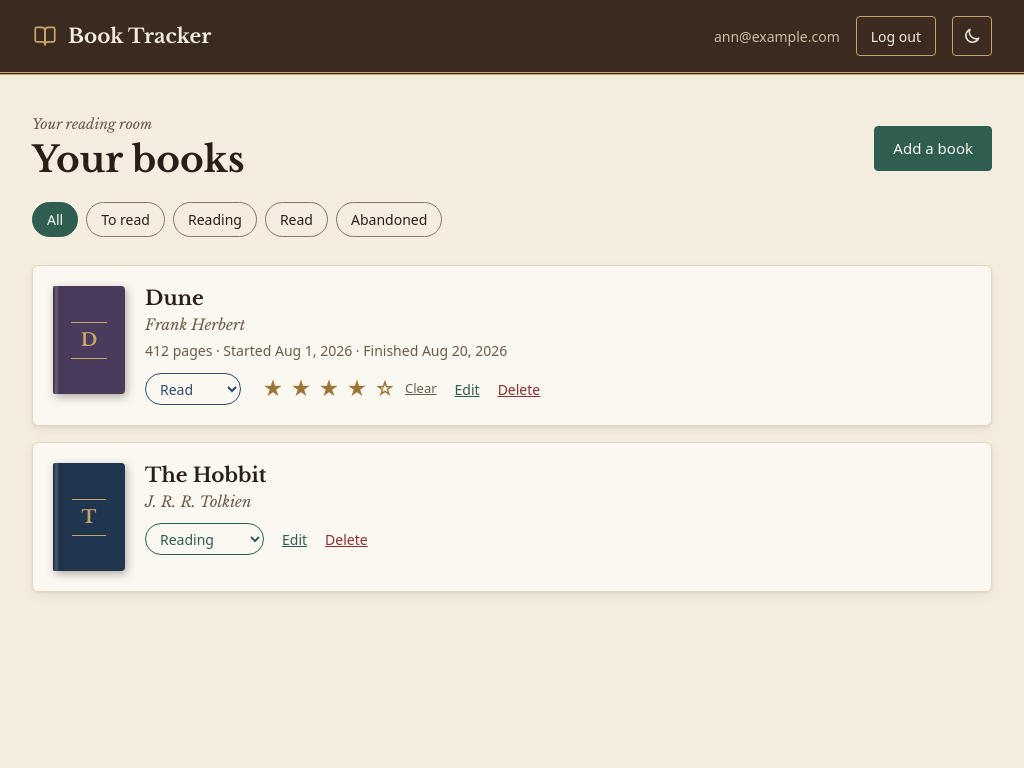
Test case: books page › filters by status through the URL
Expected: the heading "Dune" is shown, [145, 286, 204, 310]
What coordinates should you click on to do the following:
click the link "Reading"
I would click on:
 (215, 220)
Its box is [173, 202, 257, 237].
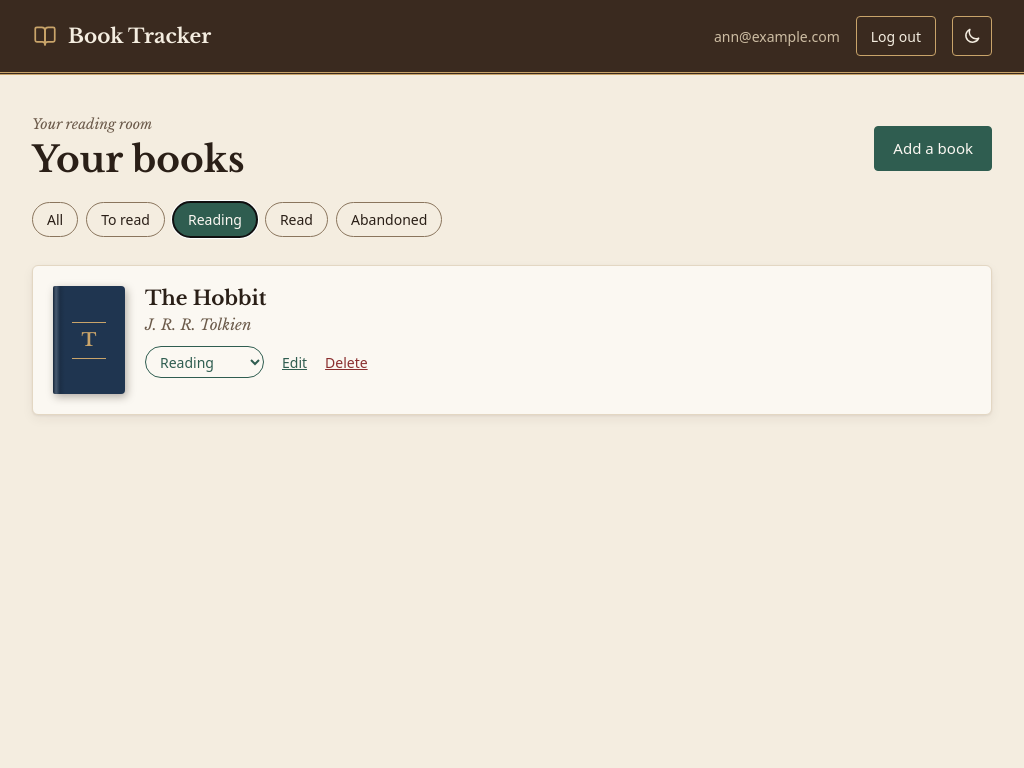
Expected: the heading "The Hobbit" is shown, [145, 286, 266, 310]
Expected: the heading "Dune" is gone
